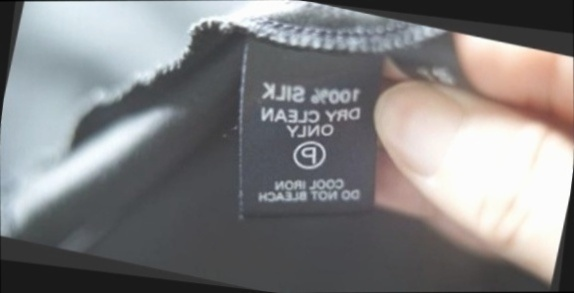dry_clean_any_solvent_except_trichloroethylene: (286, 133, 331, 176)
